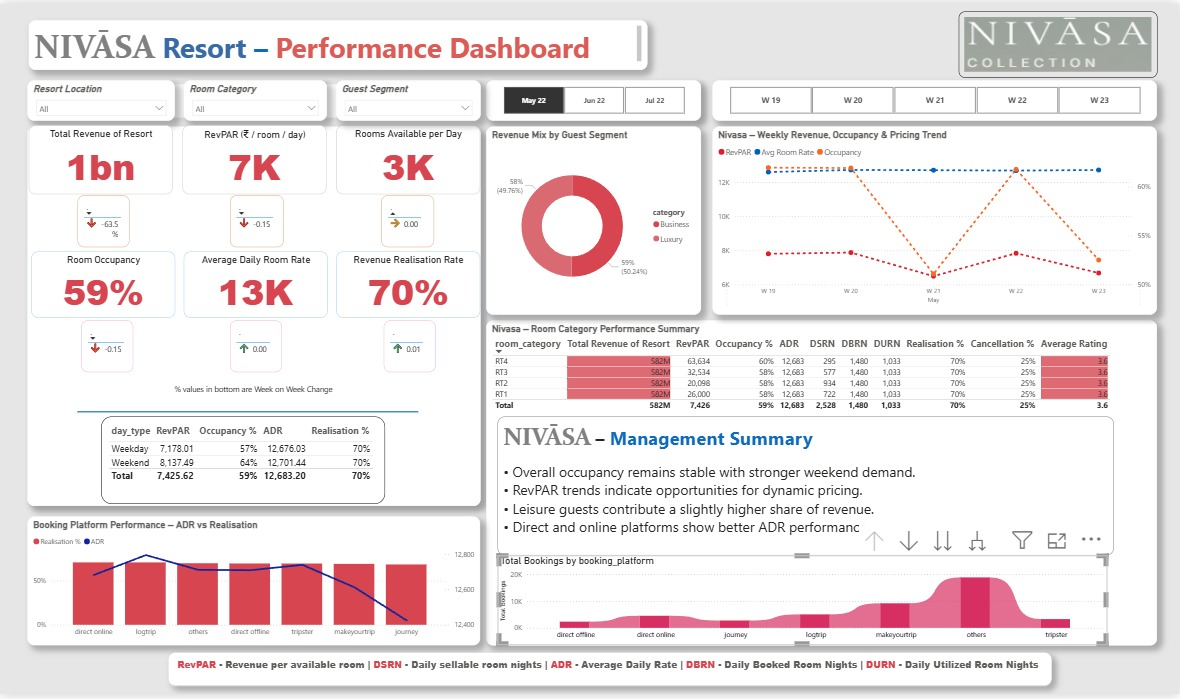

Layout of this report page (visuals, bound fields, positions):
{"tool":"powerbi","page":{"name":"Hospitality Dashboard","canvas":[2050,1200],"ordinal":0},"visuals":[{"type":"shape","box":[293.6,1129.2,1535.1,59.1],"z":0},{"type":"shape","box":[54,134,782,68],"z":1000},{"type":"shape","box":[50,28,784,86],"z":2000},{"type":"shape","box":[846,134,372,68],"z":3000},{"type":"shape","box":[1240,134,772,68],"z":4000},{"type":"shape","box":[1240,212,772,328],"z":5000},{"type":"shape","box":[846,212,372,328],"z":6000},{"type":"shape","box":[50,890,764,224],"z":7000},{"type":"shape","box":[846,550,1166,564],"z":8000},{"type":"shape","box":[48,212,788,660],"z":9000},{"type":"tableEx","title":"Nivasa – Room Category Performance Summary","fields":{"Values":["fact_aggregated_bookings.room_category","Key Measures.Revenue","Key Measures.RevPAR","Key Measures.Occupancy %","Key Measures.ADR","Key Measures.DSRN","Key Measures.DBRN","Key Measures.DURN","Key Measures.Realisation %","Key Measures.Cancellation %","Key Measures.Average Rating"]},"box":[845.4,549.8,1166.6,565.6],"z":10000},{"type":"slicer","title":"Resort Location","fields":{"Values":["dim_hotels.city"]},"box":[47.5,132.5,256.2,70],"z":11000},{"type":"slicer","title":"Room Category","fields":{"Values":["dim_rooms.room_class"]},"box":[319.5,132.9,249.2,70.1],"z":12000},{"type":"slicer","fields":{"Values":["dim_date.mmm yy"]},"box":[845,132.5,373.8,70],"z":13000},{"type":"slicer","fields":{"Values":["dim_date.week no"]},"box":[1240,132.5,772.5,70],"z":14000},{"type":"tableEx","fields":{"Values":["Key Measures.Revenue WoW change %"]},"box":[135,331.7,90,90],"z":15000},{"type":"card","title":"Total Revenue of Resort","fields":{"Values":["Key Measures.Revenue"]},"box":[50,211.7,250,120],"z":16000},{"type":"donutChart","title":"Revenue Mix by Guest Segment","fields":{"Category":["dim_hotels.category"],"Y":["Key Measures.Occupancy %"]},"box":[845,212.5,373.8,327.5],"z":17000},{"type":"lineStackedColumnComboChart","title":"Booking Platform Performance – ADR vs Realisation","fields":{"Y":["Key Measures.Realisation %"],"Y2":["Key Measures.ADR"],"Category":["fact_bookings.booking_platform"]},"box":[48.8,891.2,787.5,223.8],"z":18000},{"type":"lineChart","title":"Nivasa – Weekly Revenue, Occupancy & Pricing Trend","fields":{"Category":["dim_date.mmm yy.Variation.Date Hierarchy.Month","dim_date.date.Variation.Date Hierarchy.Year","dim_date.date.Variation.Date Hierarchy.Quarter","dim_date.date.Variation.Date Hierarchy.Month","dim_date.date.Variation.Date Hierarchy.Day"],"Y":["Key Measures.RevPAR","Key Measures.ADR"],"Y2":["Key Measures.Occupancy %"]},"box":[1239.5,212.8,772.5,327.1],"z":19000},{"type":"card","title":"RevPAR (₹ / room / day)","fields":{"Values":["Key Measures.RevPAR"]},"box":[318.3,211.7,250,120],"z":20000},{"type":"card","title":"Rooms Available per Day","fields":{"Values":["Key Measures.DSRN"]},"box":[585,211.7,250,120],"z":21000},{"type":"tableEx","fields":{"Values":["Key Measures.Revpar WoW change %"]},"box":[400,331.7,93.3,90],"z":22000},{"type":"tableEx","fields":{"Values":["Key Measures.DSRN WoW change %"]},"box":[663.3,331.7,91.7,90],"z":23000},{"type":"card","title":"Room Occupancy","fields":{"Values":["Key Measures.Occupancy %"]},"box":[53.5,430.6,250,115],"z":24000},{"type":"card","title":"Revenue Realisation Rate","fields":{"Values":["Key Measures.Realisation %"]},"box":[585.1,430.7,250,115],"z":25000},{"type":"card","title":"Average Daily Room Rate","fields":{"Values":["Key Measures.ADR"]},"box":[319.3,430.7,250,115],"z":26000},{"type":"tableEx","fields":{"Values":["Key Measures.Occupancy WoW change %"]},"box":[140.3,550.5,90,90],"z":27000},{"type":"tableEx","fields":{"Values":["Key Measures.Realisation WoW change %"]},"box":[668.1,550.5,90.4,90.4],"z":28000},{"type":"tableEx","fields":{"Values":["Key Measures.ADR WoW change %"]},"box":[400.5,550.5,90.4,90.4],"z":29000},{"type":"slicer","title":"Guest Segment","fields":{"Values":["dim_hotels.category"]},"box":[585,132.5,251.2,70],"z":30000},{"type":"textbox","box":[50,28,1076,86],"z":31000},{"type":"textbox","box":[293.5,650,306.4,40.6],"z":32000},{"type":"shape","box":[134.7,699.7,592.5,18.5],"z":33000},{"type":"tableEx","fields":{"Values":["dim_date.day_type","Key Measures.RevPAR","Key Measures.Occupancy %","Key Measures.ADR","Key Measures.Realisation %"]},"box":[175,718.3,493.3,151.7],"z":34000},{"type":"textbox","box":[293.6,1129.2,1535.1,57.1],"z":35000},{"type":"image","box":[1667.4,13,345.7,115.2],"z":36000},{"type":"textbox","box":[865.2,717.4,1071.7,241.3],"z":37000},{"type":"ribbonChart","fields":{"Category":["fact_bookings.booking_platform","dim_rooms.room_class"],"Y":["Key Measures.Total Bookings"]},"box":[865.2,958.7,1060.9,156.5],"z":37001}]}

Visuals, with their boxes in screenshot pixels (x1, y1, x2, y2), scaled from the page's 2050x1200 canvas onto the 1180x699 screenshot:
shape: <region>169, 658, 1053, 692</region>
shape: <region>31, 78, 481, 118</region>
shape: <region>29, 16, 480, 66</region>
shape: <region>487, 78, 701, 118</region>
shape: <region>714, 78, 1158, 118</region>
shape: <region>714, 123, 1158, 315</region>
shape: <region>487, 123, 701, 315</region>
shape: <region>29, 518, 469, 649</region>
shape: <region>487, 320, 1158, 649</region>
shape: <region>28, 123, 481, 508</region>
"Nivasa – Room Category Performance Summary" tableEx: <region>487, 320, 1158, 650</region>
"Resort Location" slicer: <region>27, 77, 175, 118</region>
"Room Category" slicer: <region>184, 77, 327, 118</region>
slicer - dim_date.mmm yy: <region>486, 77, 702, 118</region>
slicer - dim_date.week no: <region>714, 77, 1158, 118</region>
tableEx - Key Measures.Revenue WoW change %: <region>78, 193, 130, 246</region>
"Total Revenue of Resort" card: <region>29, 123, 173, 193</region>
"Revenue Mix by Guest Segment" donutChart: <region>486, 124, 702, 315</region>
"Booking Platform Performance – ADR vs Realisation" lineStackedColumnComboChart: <region>28, 519, 481, 649</region>
"Nivasa – Weekly Revenue, Occupancy & Pricing Trend" lineChart: <region>713, 124, 1158, 314</region>
"RevPAR (₹ / room / day)" card: <region>183, 123, 327, 193</region>
"Rooms Available per Day" card: <region>337, 123, 481, 193</region>
tableEx - Key Measures.Revpar WoW change %: <region>230, 193, 284, 246</region>
tableEx - Key Measures.DSRN WoW change %: <region>382, 193, 435, 246</region>
"Room Occupancy" card: <region>31, 251, 175, 318</region>
"Revenue Realisation Rate" card: <region>337, 251, 481, 318</region>
"Average Daily Room Rate" card: <region>184, 251, 328, 318</region>
tableEx - Key Measures.Occupancy WoW change %: <region>81, 321, 133, 373</region>
tableEx - Key Measures.Realisation WoW change %: <region>385, 321, 437, 373</region>
tableEx - Key Measures.ADR WoW change %: <region>231, 321, 283, 373</region>
"Guest Segment" slicer: <region>337, 77, 481, 118</region>
textbox: <region>29, 16, 648, 66</region>
textbox: <region>169, 379, 345, 402</region>
shape: <region>78, 408, 419, 418</region>
tableEx - dim_date.day_type x Key Measures.RevPAR: <region>101, 418, 385, 507</region>
textbox: <region>169, 658, 1053, 691</region>
image: <region>960, 8, 1159, 75</region>
textbox: <region>498, 418, 1115, 558</region>
ribbonChart - fact_bookings.booking_platform x dim_rooms.room_class: <region>498, 558, 1109, 650</region>
